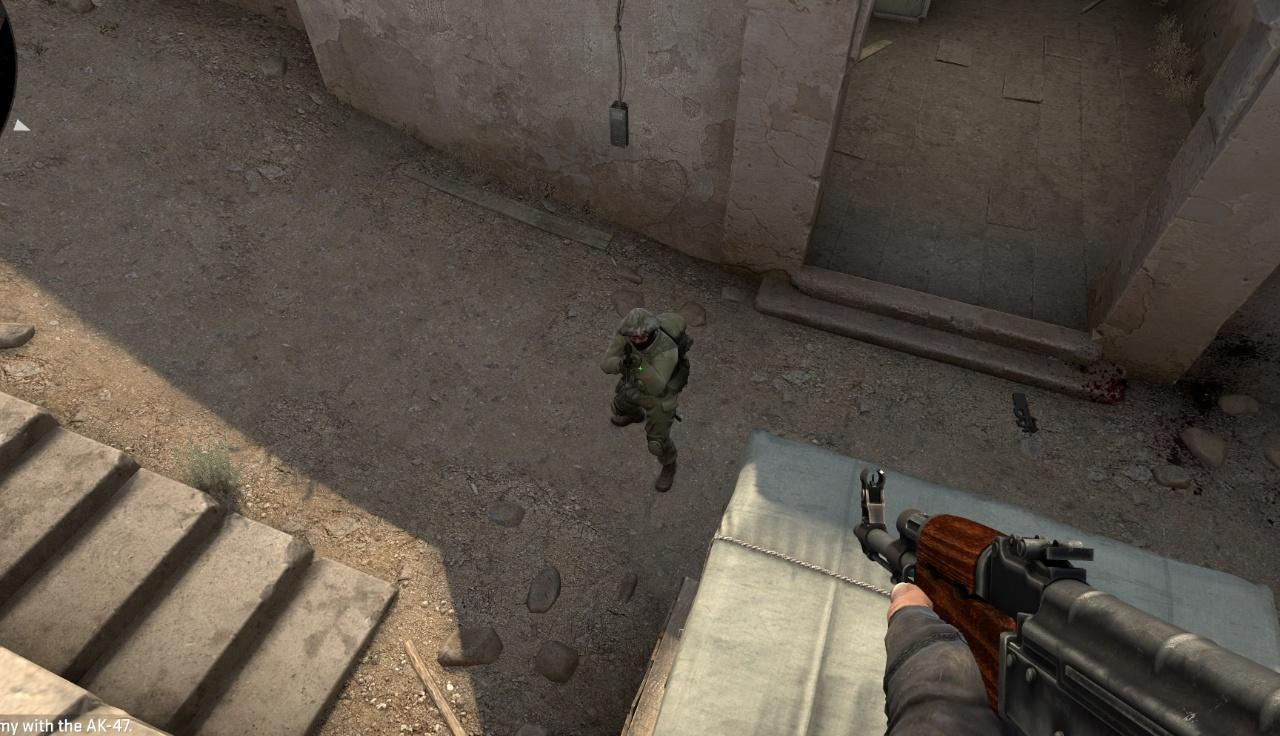ct: (610, 309, 682, 478)
cthead: (622, 310, 657, 347)
rifle: (850, 465, 1280, 736)
